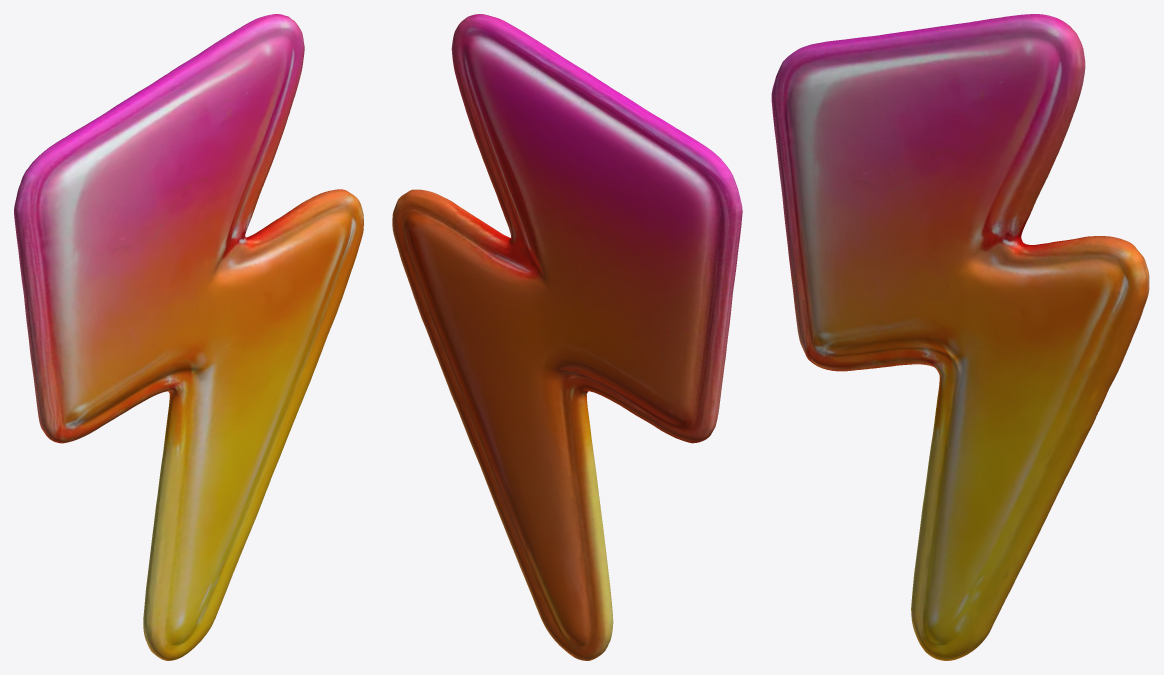
File: flash__main__r1__p1.glb
3 renders of one model, left to right at view 1: azimuth 30°, elevation 25°; view 2: azimuth 150°, elevation 25°; view 3: azimuth 330°, elevation 25°, orthographic. The views are drawn at different scales.
Parts seen in each view (by area): view 1: model; view 2: model; view 3: model.
Part boxes in pixels (x1,y1,x2,y2): model: (14, 14, 363, 660); model: (392, 14, 742, 660); model: (771, 14, 1149, 660).
Bounding box in the file's own units: 1.03 × 1.75 × 0.1145.
Materials: 1 (1 with a texture image).
